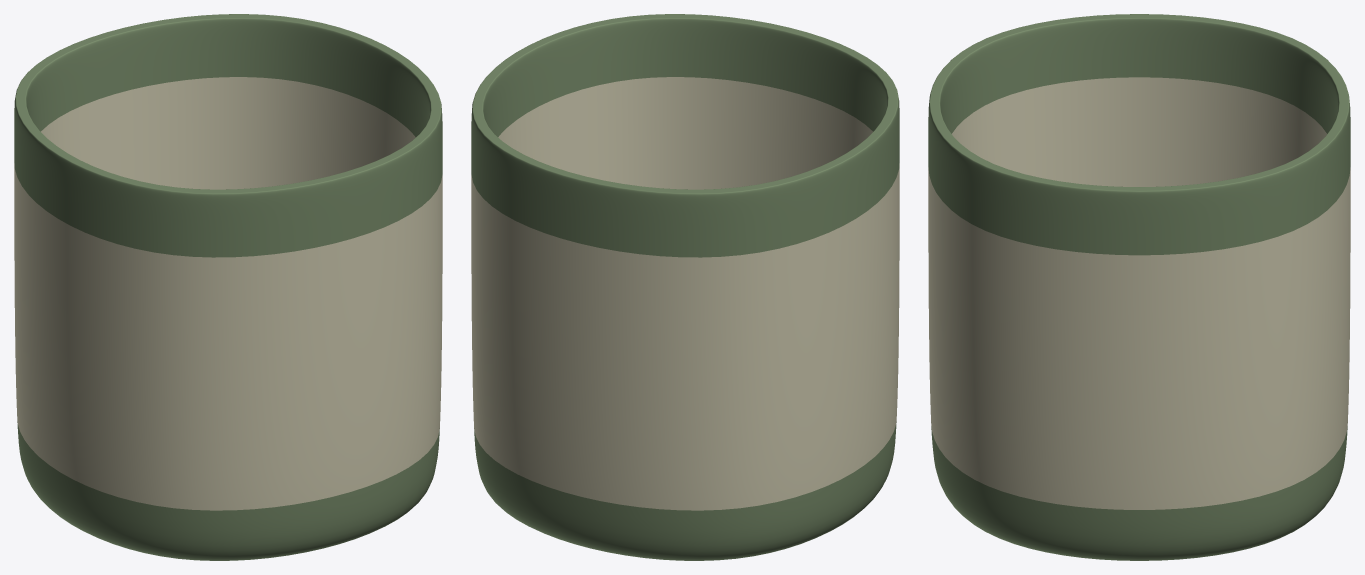
File: TeaCup.fbx
The picture shows the model from 3 angles, left to right: view 1: azimuth 30°, elevation 25°; view 2: azimuth 150°, elevation 25°; view 3: azimuth 270°, elevation 25°; orthographic projection.
Visible parts, largest first — view 1: pCube2; view 2: pCube2; view 3: pCube2.
Part boxes in pixels (<box>): pCube2: <box>14,14,442,560</box>; pCube2: <box>471,14,899,560</box>; pCube2: <box>928,14,1350,560</box>.
Bounding box in the file's own units: 12.07 × 12.08 × 12.07.
